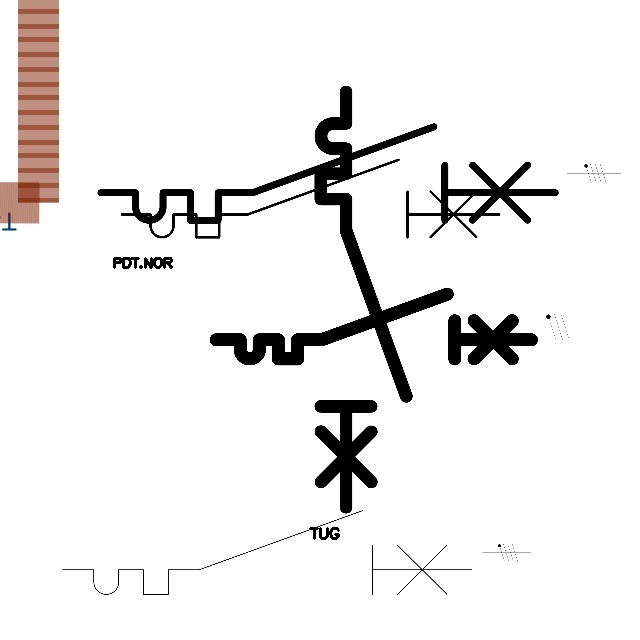interruptor_termomagnetico: (89, 115, 566, 232), (310, 81, 417, 518), (52, 500, 482, 605), (112, 150, 509, 247), (208, 286, 540, 367)
